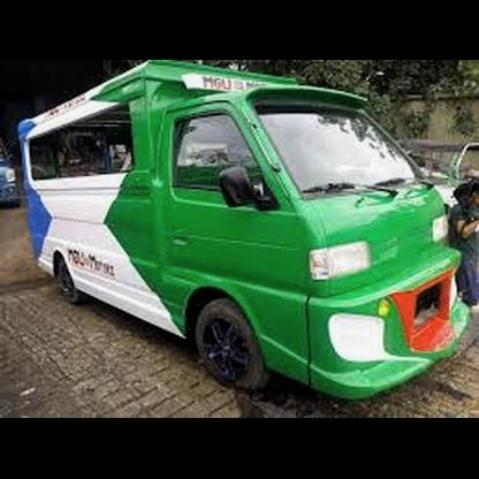jeepney: (0, 57, 469, 415)
